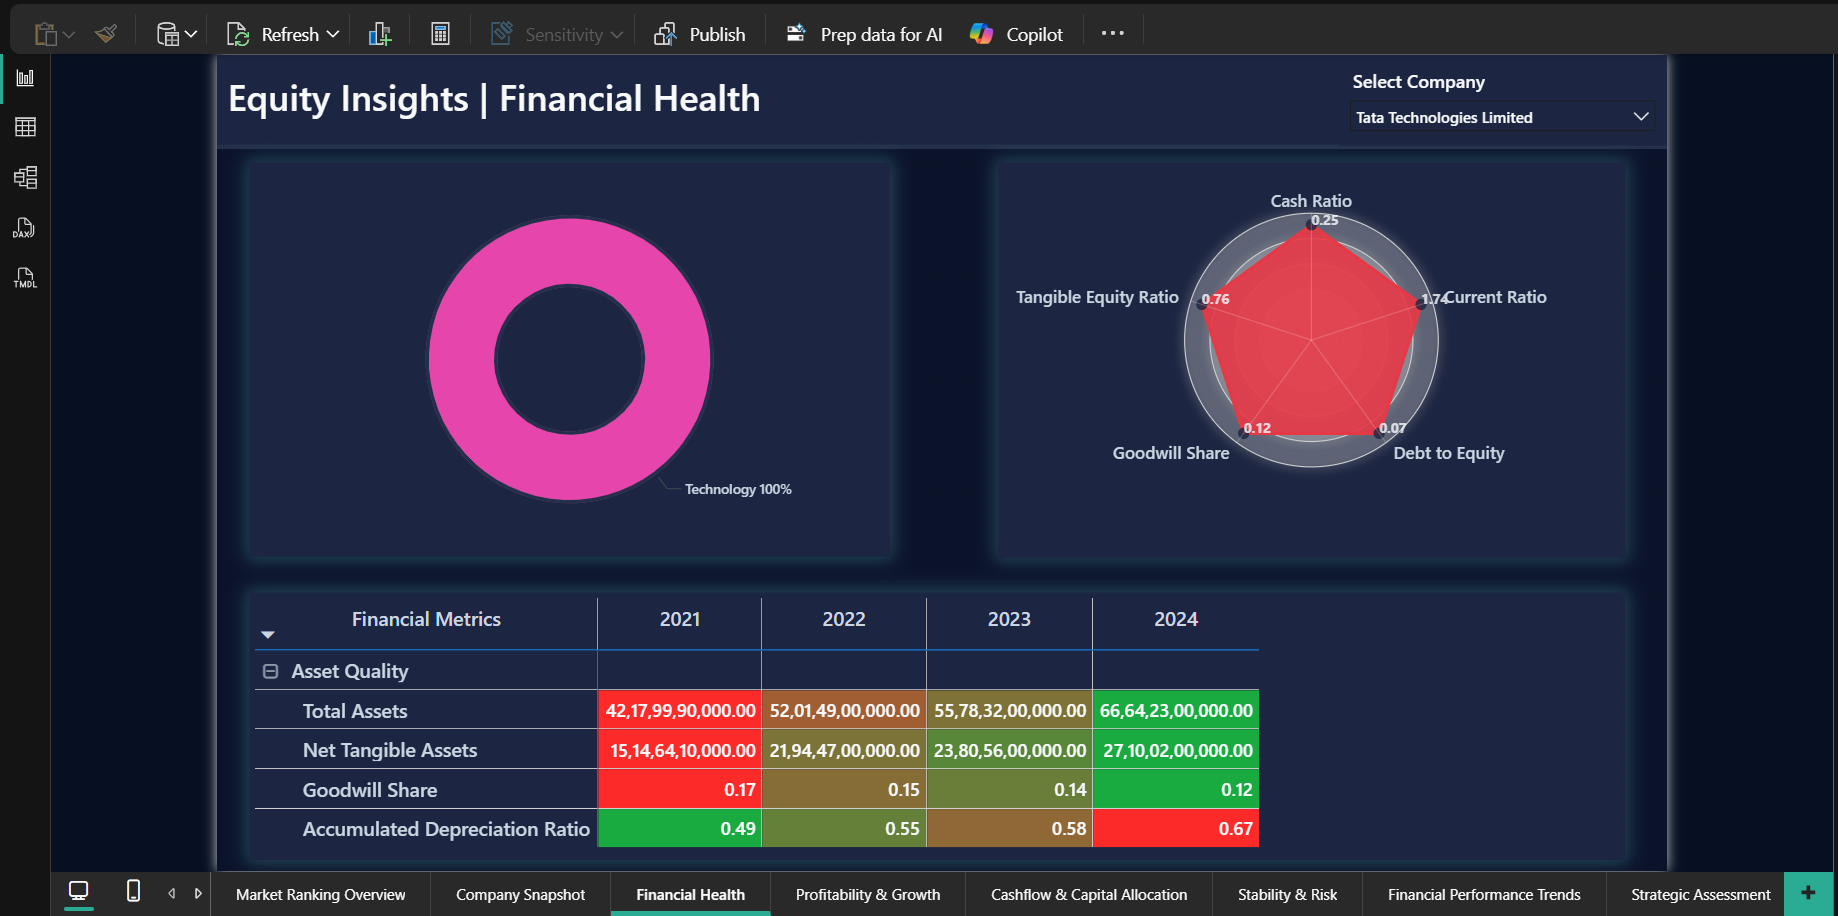

Layout of this report page (visuals, bound fields, positions):
{"tool":"powerbi","page":{"name":"Financial Health","canvas":[1280,720],"ordinal":2},"visuals":[{"type":"shape","box":[0,0,1280,80],"z":0,"group":"g1"},{"type":"group","id":"g1","title":"Group 1","box":[0,0,1280,95],"z":1000},{"type":"textbox","box":[4,0,560,80],"z":1000,"group":"g1"},{"type":"radarChart5F59D098BB90499F8C33EBEBCEE4FEBF","fields":{"measure":["Sum(gold_equity_derivedmetrics.cash_ratio)","Sum(gold_equity_derivedmetrics.current_ratio)","Sum(gold_equity_derivedmetrics.debt_to_equity)","Sum(gold_equity_derivedmetrics.goodwill_share)","Sum(gold_equity_derivedmetrics.tangible_equity_ratio)"],"category":["gold_equity_basemetrics.sector"]},"box":[690,94.4,553.3,348.9],"z":2000},{"type":"pivotTable","fields":{"Rows":["dim_metrics.metric_category","gold_equity_derivedmetrics_allyears.metric_name"],"Columns":["gold_equity_derivedmetrics_allyears.fiscal_year"],"Values":["Max(gold_equity_derivedmetrics_allyears.metric_value)"]},"box":[28.6,474.3,1214.3,235.7],"z":2500},{"type":"donutChart","fields":{"Y":["CountNonNull(gold_equity_basemetrics.symbol)"],"Category":["gold_equity_basemetrics.sector"]},"box":[28.9,94.4,565.6,347.8],"z":3000},{"type":"shape","box":[0,67.5,1280,27.5],"z":4000,"group":"g1"},{"type":"slicer","fields":{"Values":["gold_equity_basemetrics.company_name"]},"box":[990,0,290,80],"z":4500,"group":"g1"}]}

Visuals, with their boxes on the page's 1280x720 design canvas (x1, y1, x2, y2). These are canvas units, not pixel positions in the 1838x916 screenshot, which may show the page scaled, cropped or inside an application window:
shape: {"x1": 0, "y1": 0, "x2": 1280, "y2": 80}
"Group 1" group: {"x1": 0, "y1": 0, "x2": 1280, "y2": 95}
textbox: {"x1": 4, "y1": 0, "x2": 564, "y2": 80}
radarChart5F59D098BB90499F8C33EBEBCEE4FEBF - Sum(gold_equity_derivedmetrics.cash_ratio) x Sum(gold_equity_derivedmetrics.current_ratio): {"x1": 690, "y1": 94, "x2": 1243, "y2": 443}
pivotTable - dim_metrics.metric_category x gold_equity_derivedmetrics_allyears.metric_name: {"x1": 29, "y1": 474, "x2": 1243, "y2": 710}
donutChart - CountNonNull(gold_equity_basemetrics.symbol) x gold_equity_basemetrics.sector: {"x1": 29, "y1": 94, "x2": 594, "y2": 442}
shape: {"x1": 0, "y1": 68, "x2": 1280, "y2": 95}
slicer - gold_equity_basemetrics.company_name: {"x1": 990, "y1": 0, "x2": 1280, "y2": 80}
